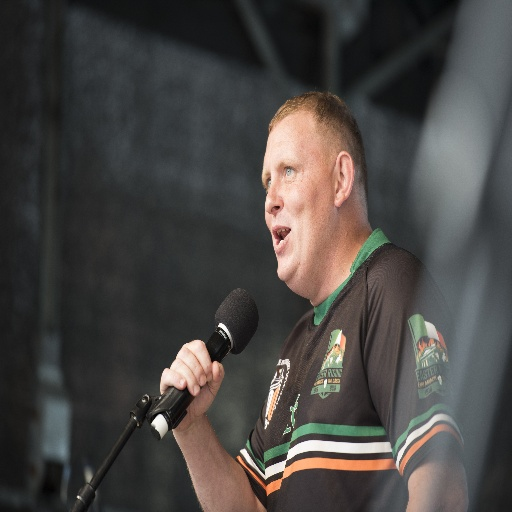hand: (151, 335, 230, 435)
